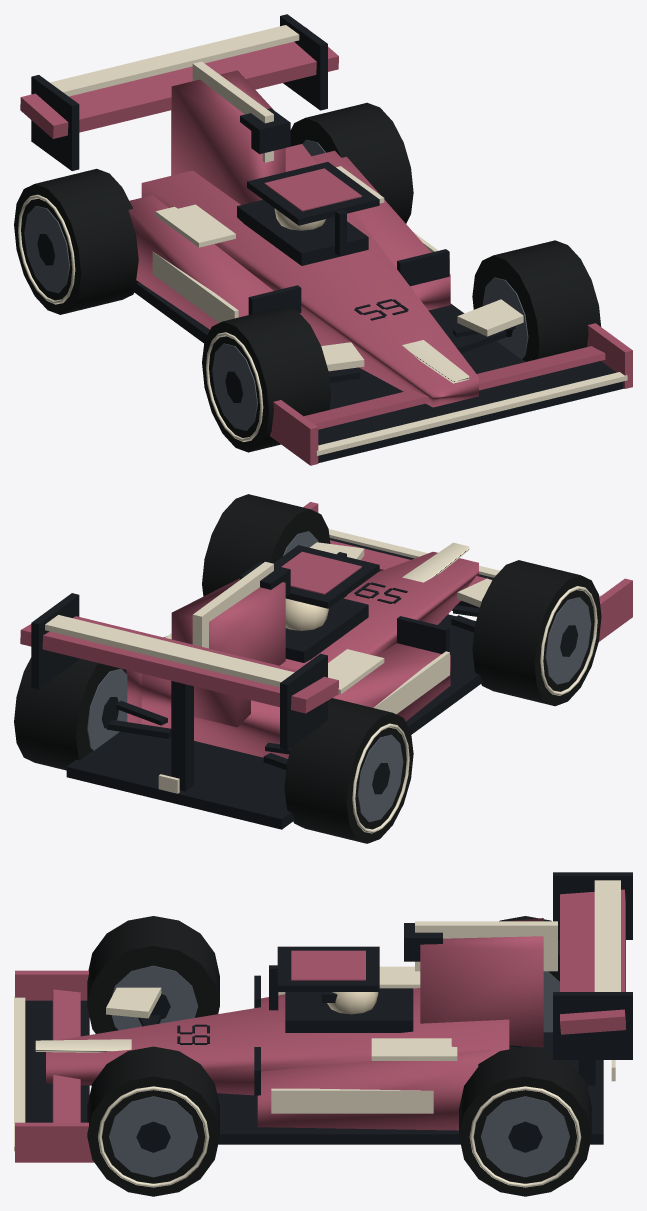
The model's file is stratos-59.glb.
3 renders of one model, top to bottom at view 1: azimuth 30°, elevation 25°; view 2: azimuth 150°, elevation 25°; view 3: azimuth 270°, elevation 25°, orthographic.
Visible parts, largest first — view 1: formula-59, wheel (×4); view 2: formula-59, wheel (×4); view 3: formula-59, wheel (×4).
Part boxes in pixels (x1,y1,x2,y2): formula-59: (20, 14, 632, 465); wheel (×4): (14, 102, 601, 452); formula-59: (20, 502, 632, 829); wheel (×4): (14, 494, 601, 843); formula-59: (14, 872, 632, 1162); wheel (×4): (87, 916, 591, 1196).
Size of the model in its own units: 3.37 by 1.86 by 5.41.
